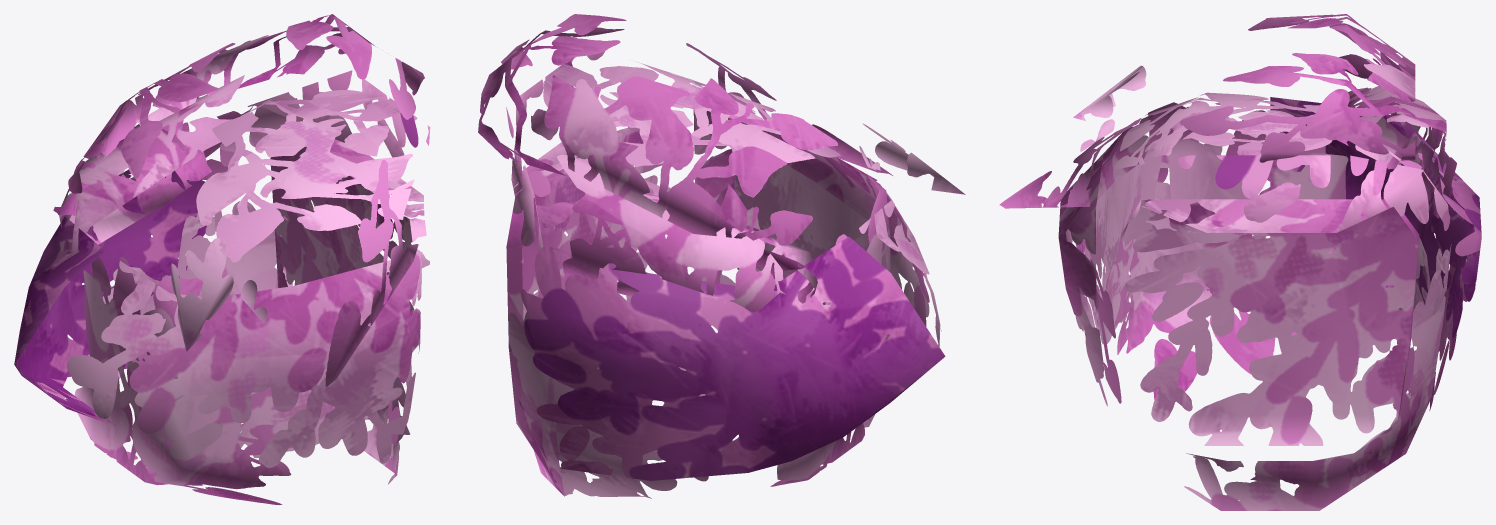
File: player.fbx
3 renders of one model, left to right at view 1: azimuth 30°, elevation 25°; view 2: azimuth 150°, elevation 25°; view 3: azimuth 270°, elevation 25°, orthographic. The views are drawn at different scales.
Parts seen in each view (by area): view 1: Hair; view 2: Hair; view 3: Hair.
Part boxes in pixels (x1,y1,x2,y2): Hair: [14, 14, 430, 504]; Hair: [478, 14, 965, 498]; Hair: [999, 14, 1481, 510].
Bounding box in the file's own units: 155 × 152 × 156.
1 material, 1 textured.
